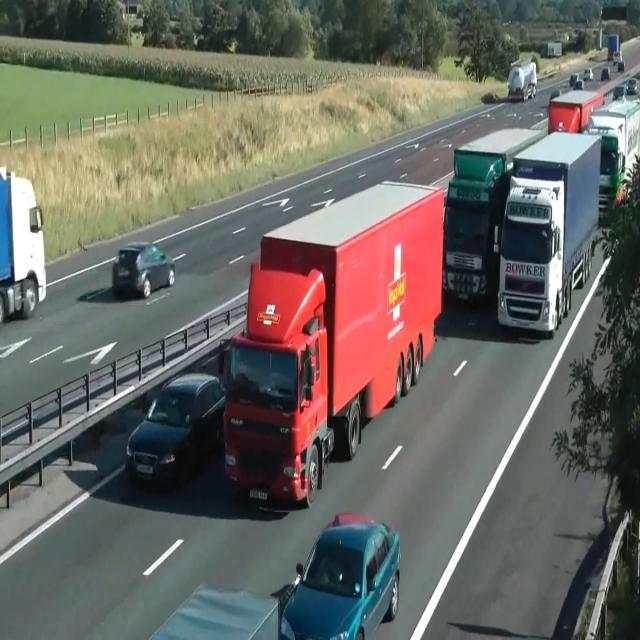bus: (276, 512, 401, 639), (126, 371, 226, 489), (111, 241, 175, 299), (615, 180, 633, 206), (612, 84, 626, 100), (626, 78, 638, 94), (549, 88, 561, 103), (583, 68, 593, 80), (574, 78, 584, 90), (570, 72, 578, 86), (612, 51, 620, 64), (601, 68, 609, 80), (618, 61, 624, 71)
car: (148, 511, 400, 638)
jeep: (218, 262, 334, 508)
minibus: (219, 178, 445, 508), (497, 130, 601, 338), (442, 126, 545, 307), (548, 80, 640, 207), (0, 165, 46, 323), (587, 97, 639, 203), (547, 88, 605, 133), (507, 59, 537, 101), (540, 42, 562, 58), (607, 33, 619, 61)
